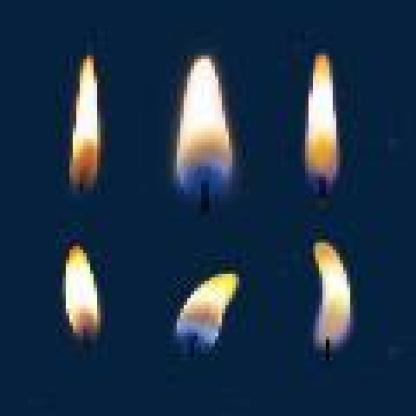Fire: (171, 54, 236, 193), (162, 259, 246, 346), (298, 49, 346, 179), (306, 242, 356, 352), (73, 51, 100, 185), (66, 235, 99, 344)
